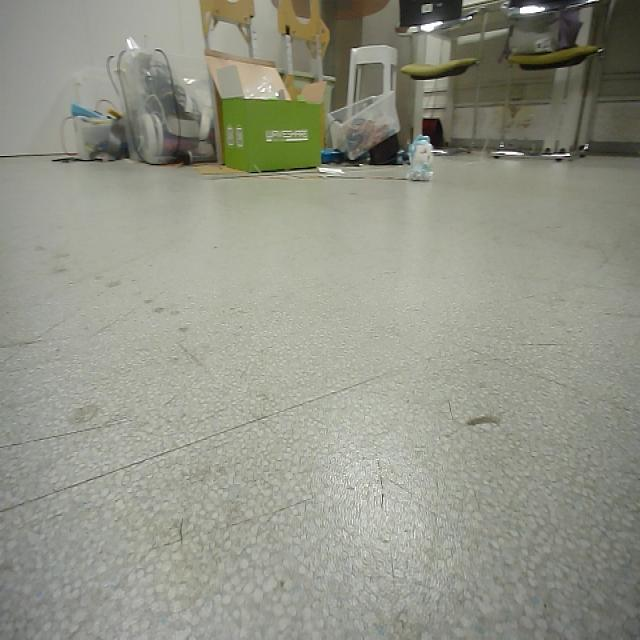xiaoba: (408, 132, 437, 183)
